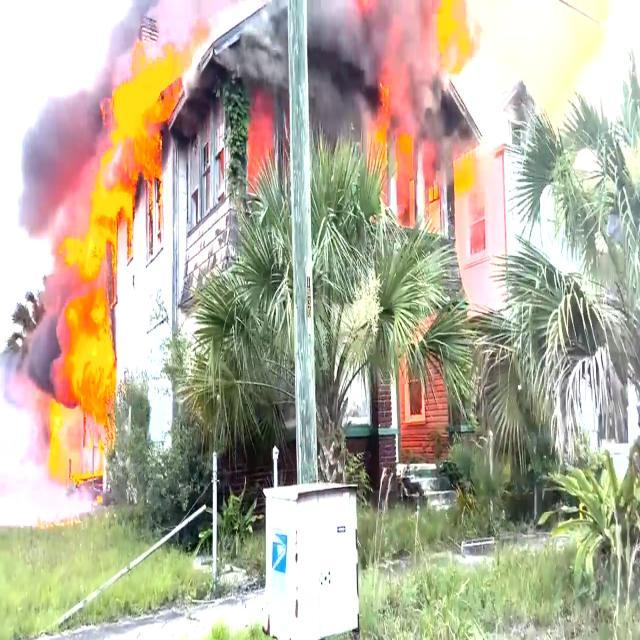Fire: (116, 58, 177, 232), (68, 322, 114, 466), (88, 188, 130, 295), (444, 13, 478, 67), (455, 145, 472, 194), (378, 112, 391, 176)
Smoke: (8, 97, 91, 245), (310, 13, 368, 170), (381, 0, 438, 90), (5, 316, 54, 404)
